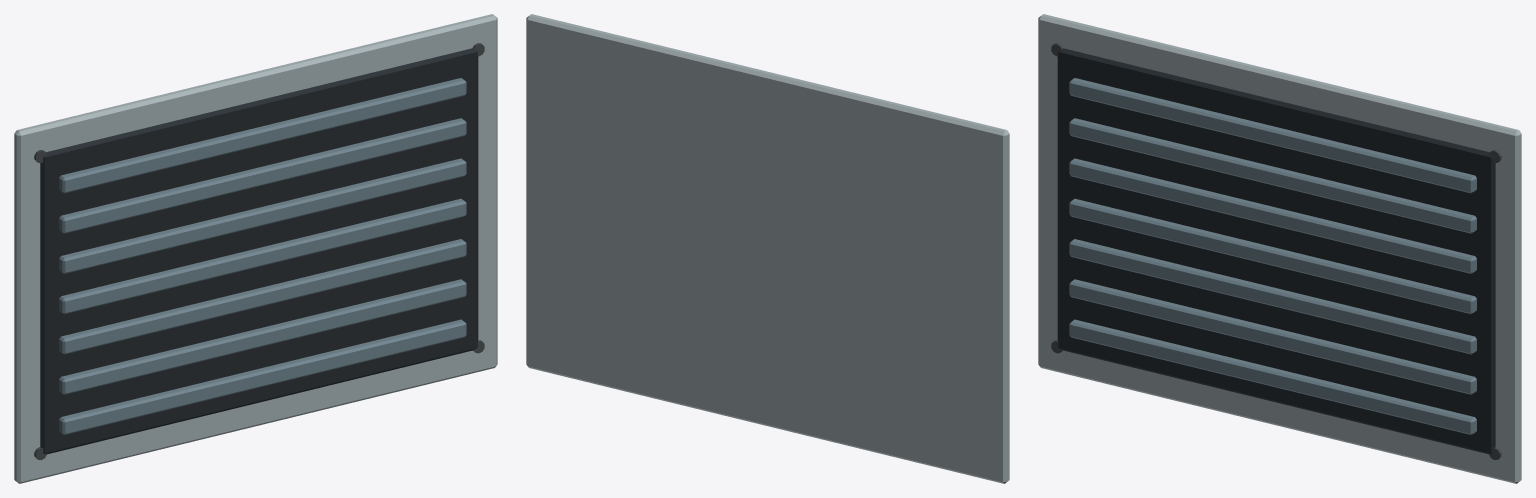
The model's file is roof-grille.glb.
The picture shows the model from 3 angles, left to right: view 1: azimuth 30°, elevation 25°; view 2: azimuth 150°, elevation 25°; view 3: azimuth 330°, elevation 25°; orthographic projection.
Parts seen in each view (by area): view 1: roof-grille-Recess and gasket, roof-grille-Slate enamel, roof-grille-Brushed zinc; view 2: roof-grille-Brushed zinc; view 3: roof-grille-Recess and gasket, roof-grille-Slate enamel, roof-grille-Brushed zinc.
Part boxes in pixels (x1=…): roof-grille-Recess and gasket: x1=40, y1=48, x2=478, y2=454; roof-grille-Slate enamel: x1=59, y1=78, x2=466, y2=434; roof-grille-Brushed zinc: x1=14, y1=14, x2=497, y2=483; roof-grille-Brushed zinc: x1=526, y1=14, x2=1009, y2=483; roof-grille-Recess and gasket: x1=1057, y1=48, x2=1495, y2=454; roof-grille-Slate enamel: x1=1069, y1=78, x2=1476, y2=434; roof-grille-Brushed zinc: x1=1038, y1=14, x2=1521, y2=483.
Bounding box in the file's own units: 1 × 0.7 × 0.0445.
